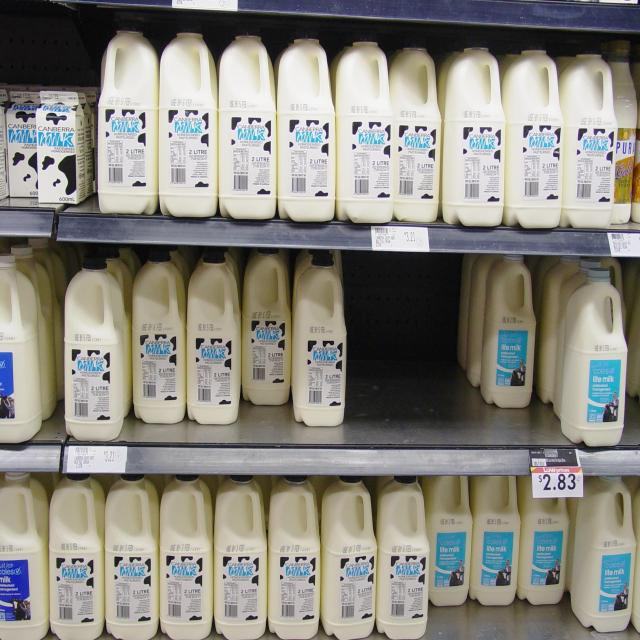empty_space: (350, 259, 471, 425)
